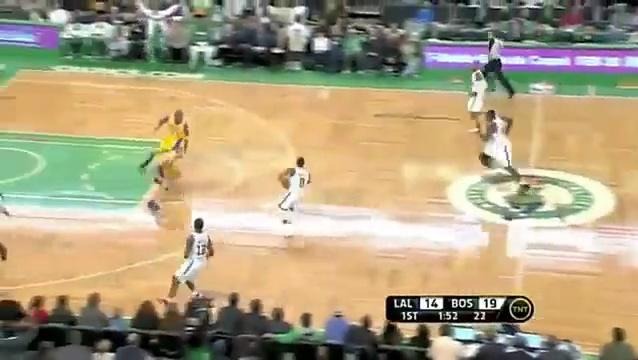Ball: (282, 179, 291, 189)
Person: (164, 218, 216, 306), (480, 107, 531, 192), (141, 139, 191, 219), (275, 153, 311, 239), (465, 61, 497, 140), (153, 107, 190, 167)
Referee: (481, 28, 521, 99)
